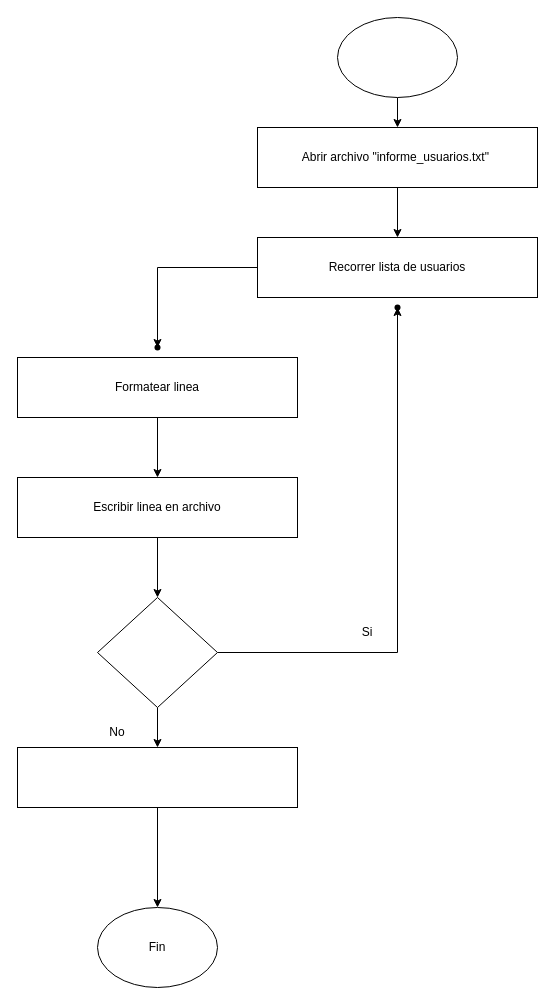
Image size: 555x1005. Some labels were removed from this diagram. Each missing label, with the box of its shape:
Cerrar archivo: (16, 746, 298, 808)
inicio: (336, 16, 458, 98)
mas usuarios?: (96, 596, 218, 708)
